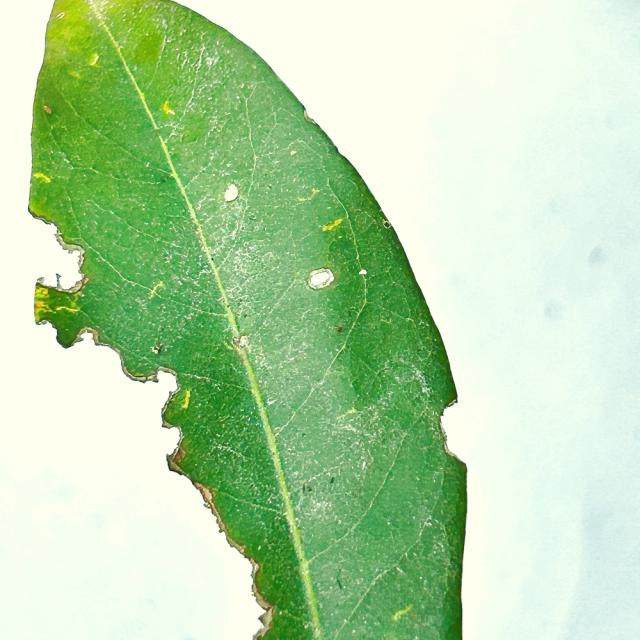Deficiency Leaf: (15, 325, 261, 639), (4, 209, 81, 289)
Lychee: (29, 0, 466, 639)
